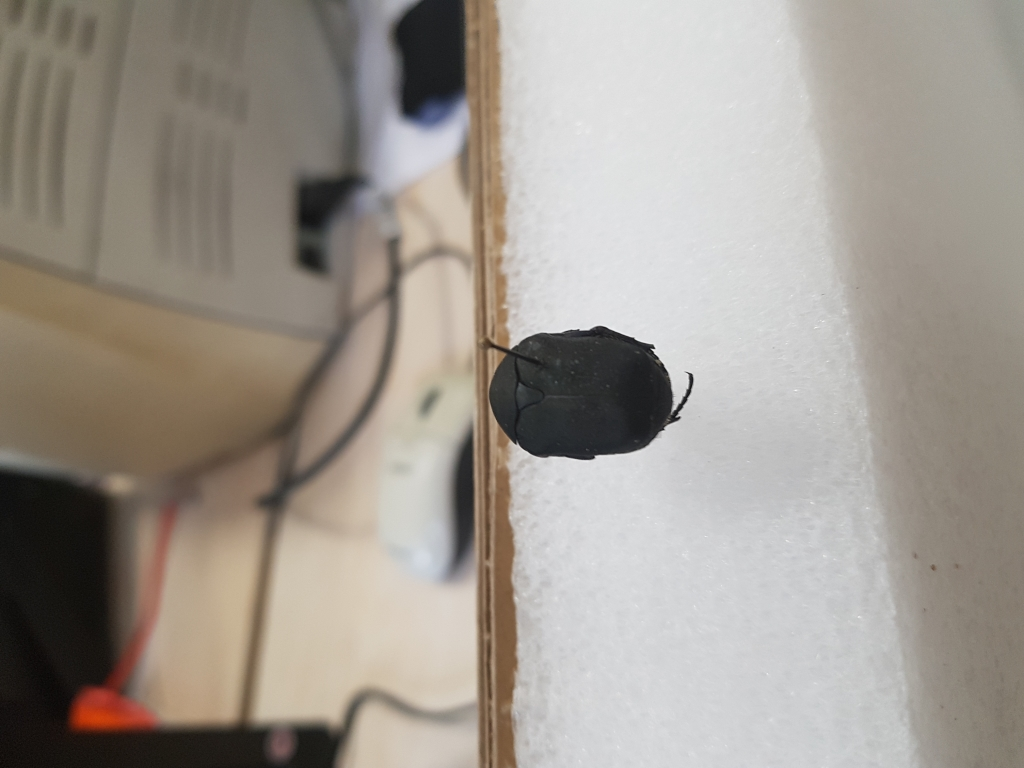Protaetia_afflicta: (471, 327, 696, 467)
